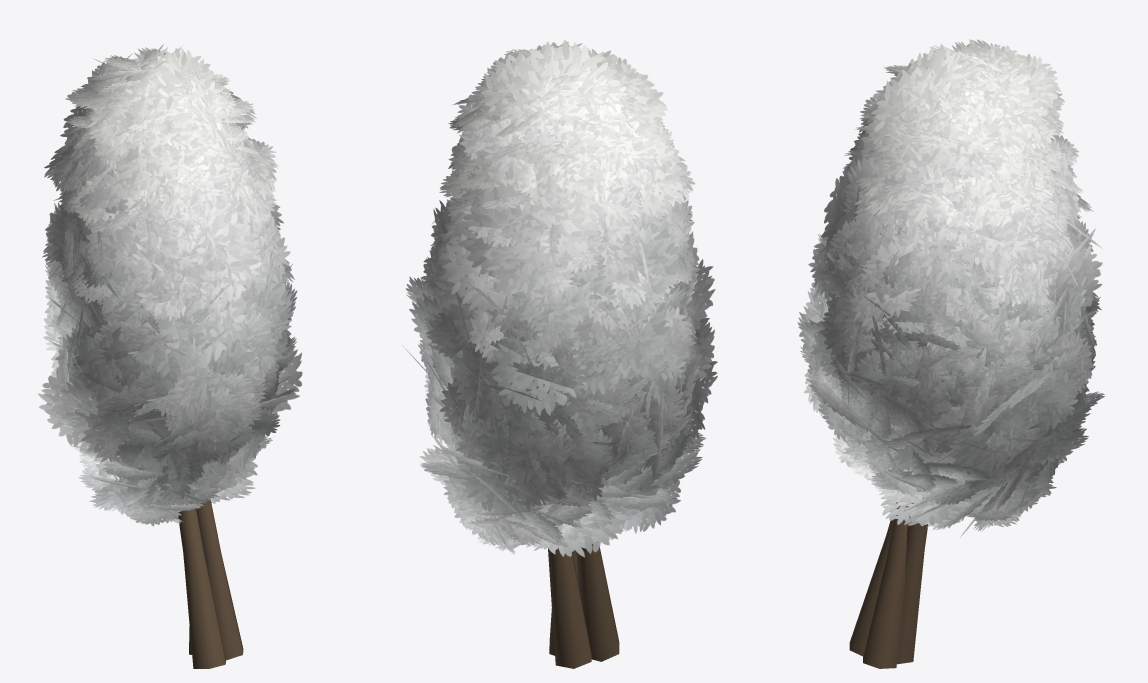
File: al-full.glb
3 views of the same model, side by side, from view 1: azimuth 30°, elevation 25°; view 2: azimuth 150°, elevation 25°; view 3: azimuth 270°, elevation 25° (orthographic). The views are drawn at different scales.
Visible parts, largest first — view 1: crown, trunk; view 2: crown, trunk; view 3: crown, trunk.
Part boxes in pixels (box(x1,y1,x2,y2)): crown: box(38, 44, 302, 526); trunk: box(178, 493, 243, 668); crown: box(402, 40, 717, 557); trunk: box(548, 544, 619, 668); crown: box(797, 39, 1104, 537); trunk: box(849, 498, 928, 668).
Size of the model in its own units: 6.01 by 12.34 by 6.51.
2 materials, 1 textured.
